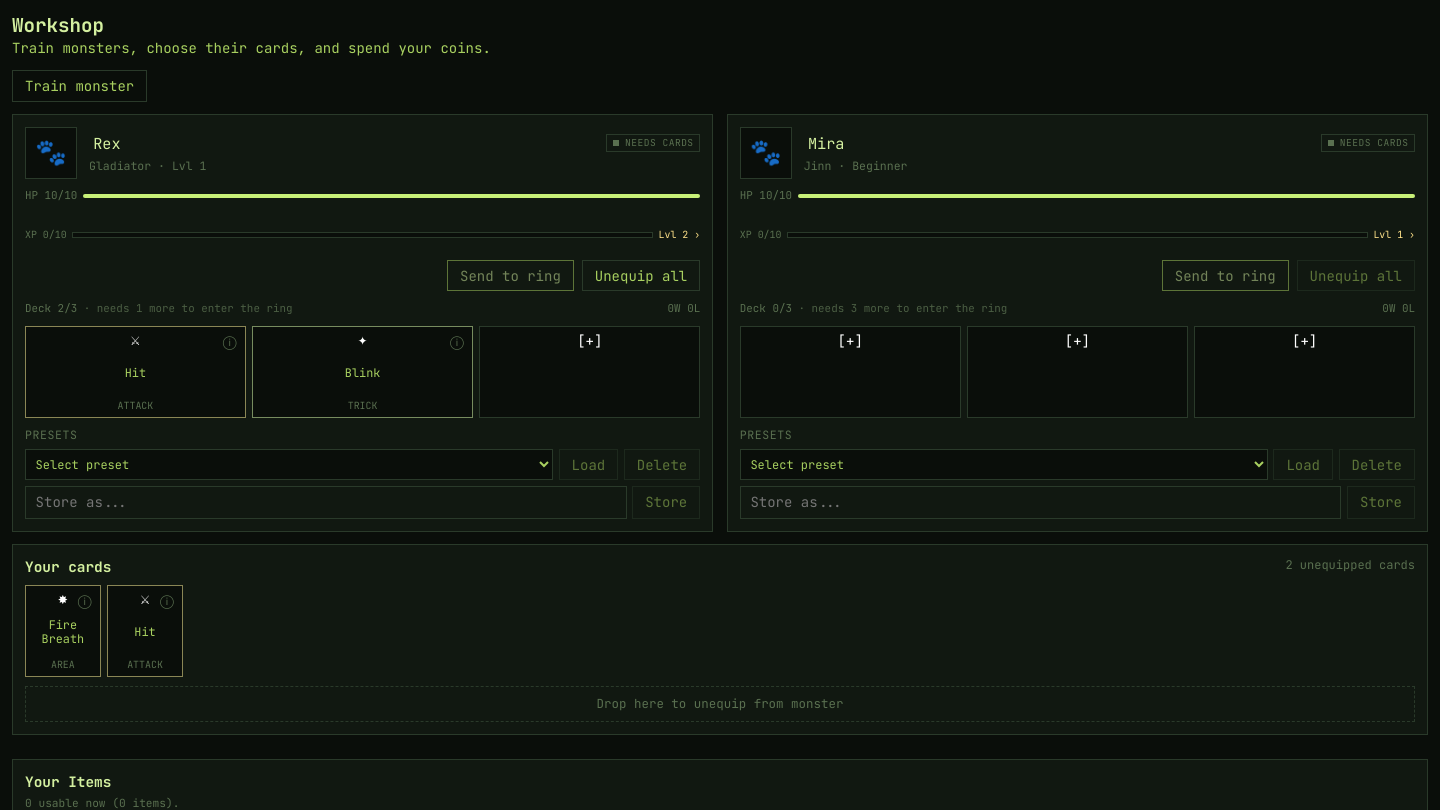
it: card details sheet in the Workshop › opens from a monster slot with the plan lines and a verdict for that monster only
The width and height of the screenshot is (1440, 810).
Step 1. Click the button named "What Blink does" → (457, 342), box [441,326,473,358]
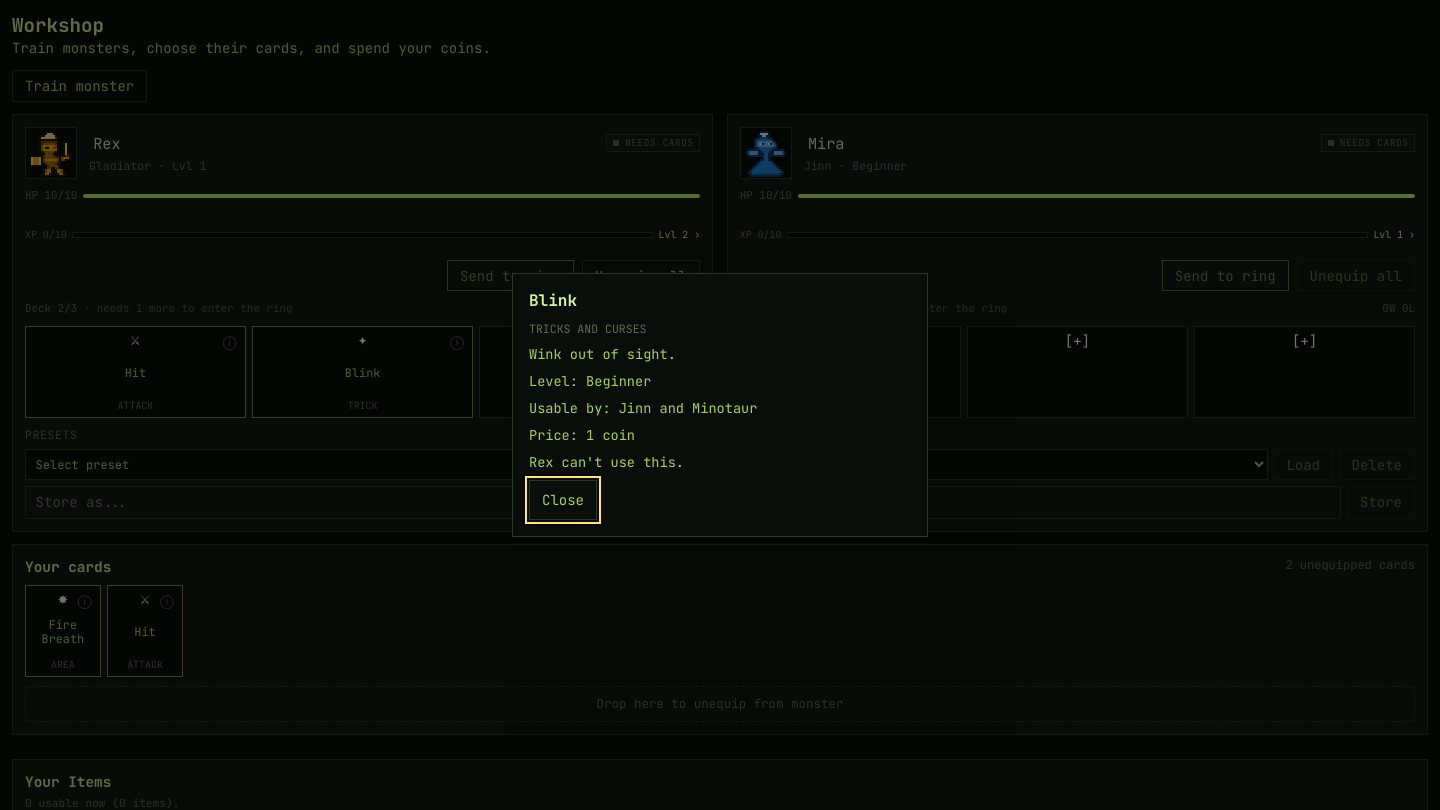
Check: the heading "Blink" is shown, box [529,290,577,311]
Check: the text "Tricks and curses" is shown, box [529,321,646,336]
Check: the text "Wink out of sight." is shown, box [529,345,676,363]
